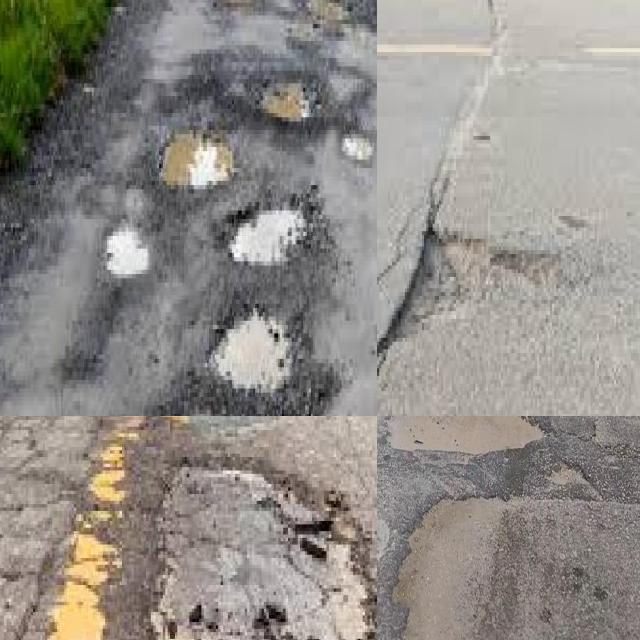Pothole: (122, 447, 377, 640), (153, 468, 368, 640), (377, 227, 552, 388), (86, 421, 193, 640), (212, 308, 290, 392), (121, 416, 204, 492), (388, 416, 544, 453), (230, 211, 306, 264), (164, 135, 233, 187), (297, 0, 370, 33), (107, 226, 149, 277), (262, 84, 309, 120), (84, 416, 154, 437), (342, 135, 373, 164), (294, 520, 333, 534)
